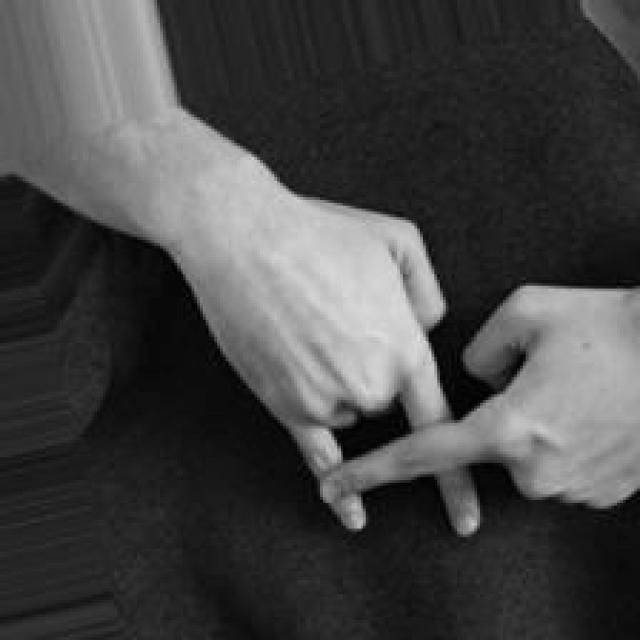H: (171, 192, 640, 551)
